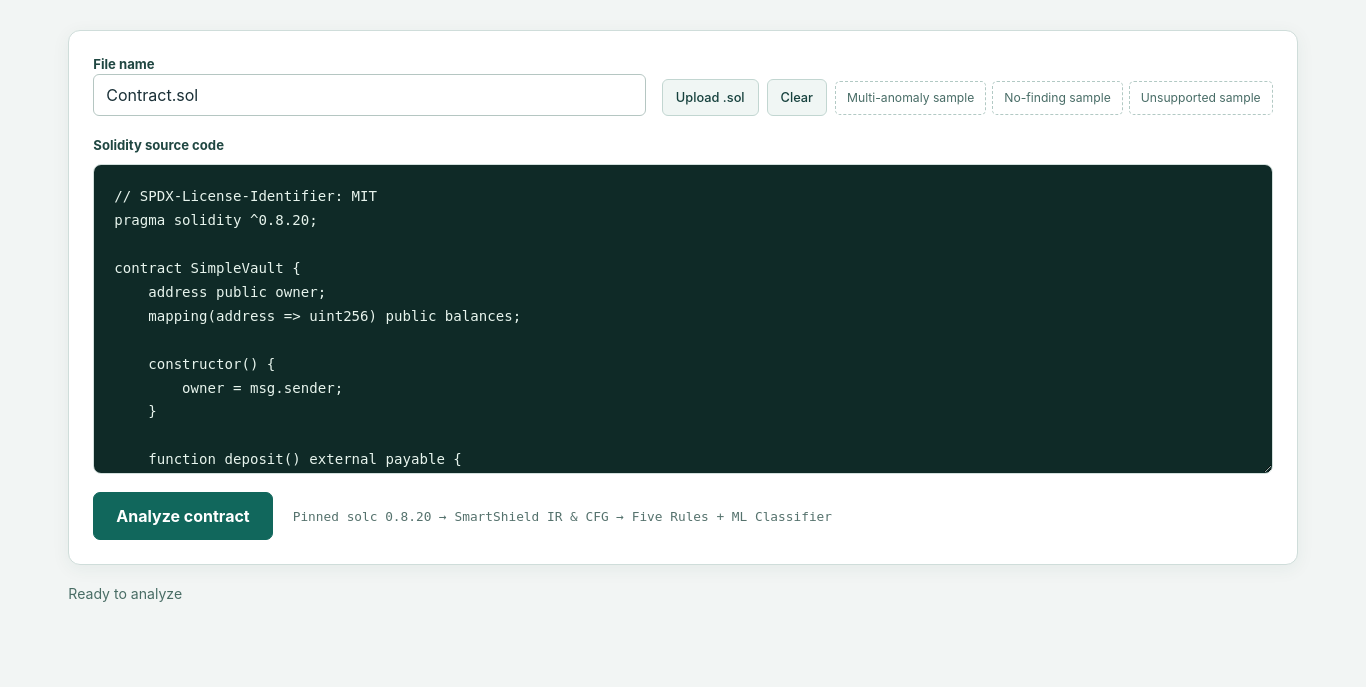
Test: reports exact completed coverage for empty results
The image size is (1366, 687).
(page scrolled)
Click the button "Analyze contract" at coordinates (183, 516), box top-left (93, 492), bottom-right (273, 540)
(page scrolled)
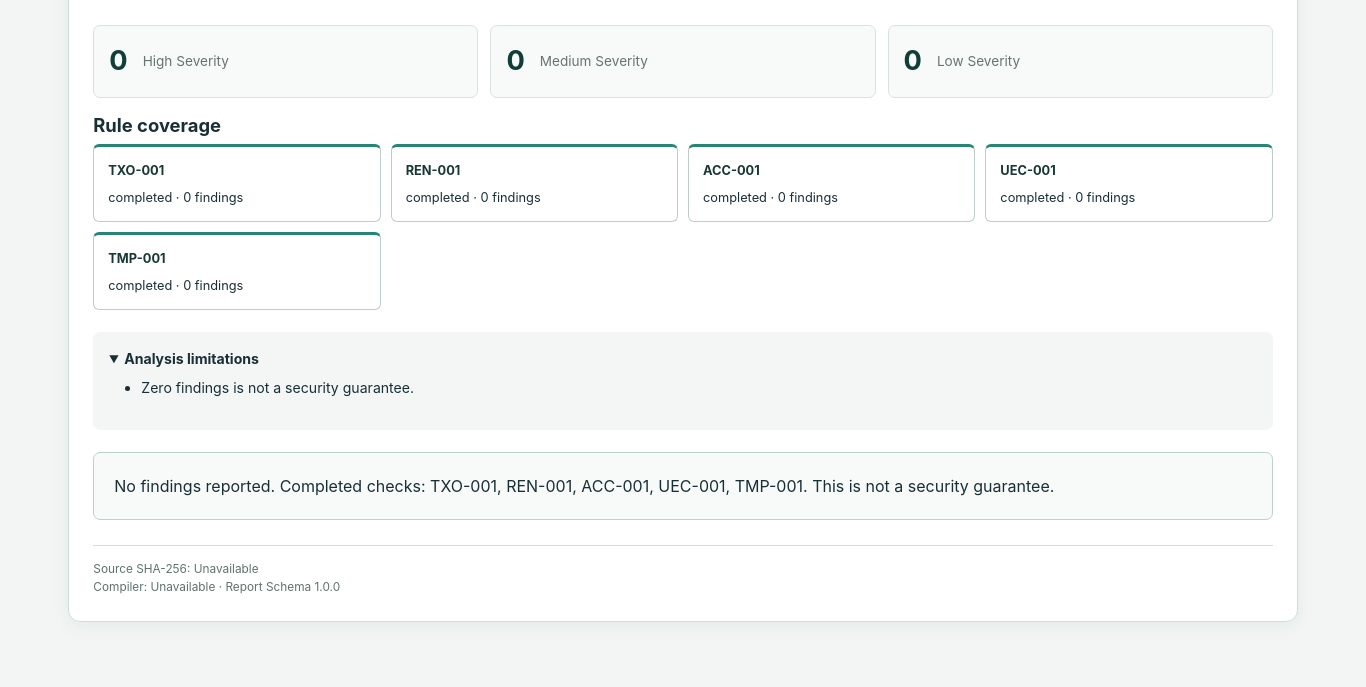
Check: the text "No findings reported. Completed checks: TXO-001, REN-001, ACC-001, UEC-001, TMP-001" is shown, box top-left (93, 452), bottom-right (1273, 520)
